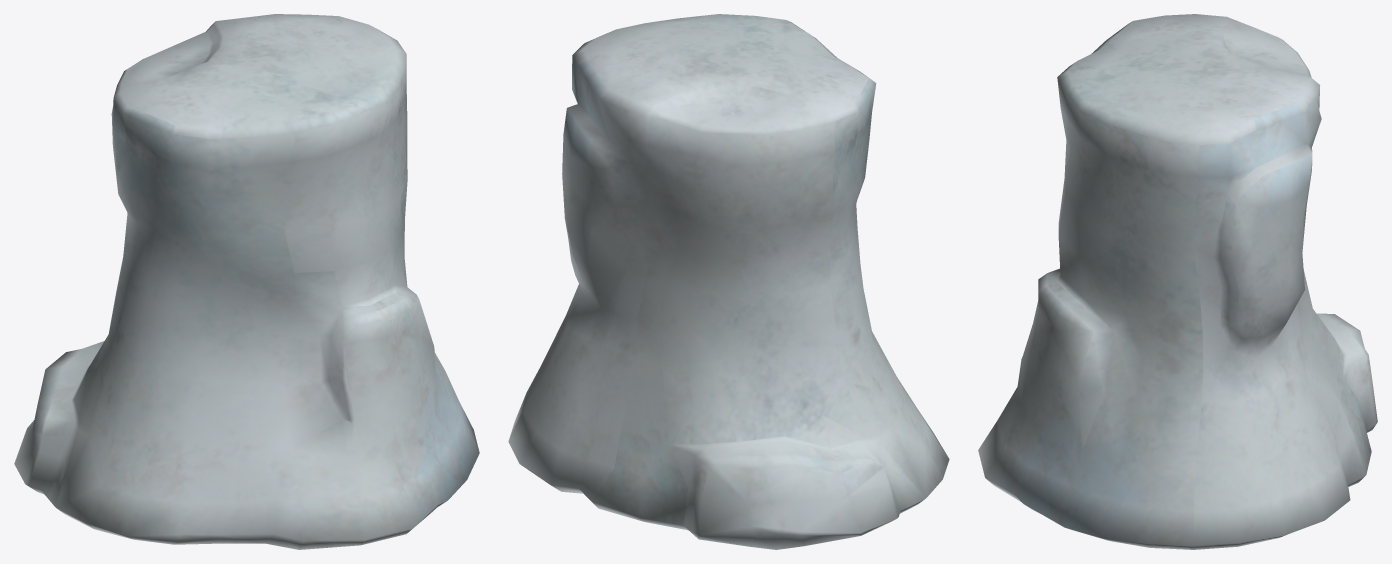
The model's file is P_RockDesert_CliffB04.obj.
The picture shows the model from 3 angles, left to right: view 1: azimuth 30°, elevation 25°; view 2: azimuth 150°, elevation 25°; view 3: azimuth 270°, elevation 25°; orthographic projection.
Bounding box in the file's own units: 52.82 × 52.05 × 46.42.
